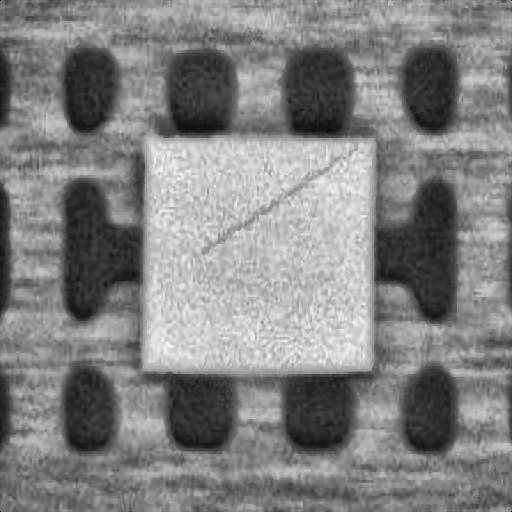DIE_CRACK: (299, 98, 512, 167)
